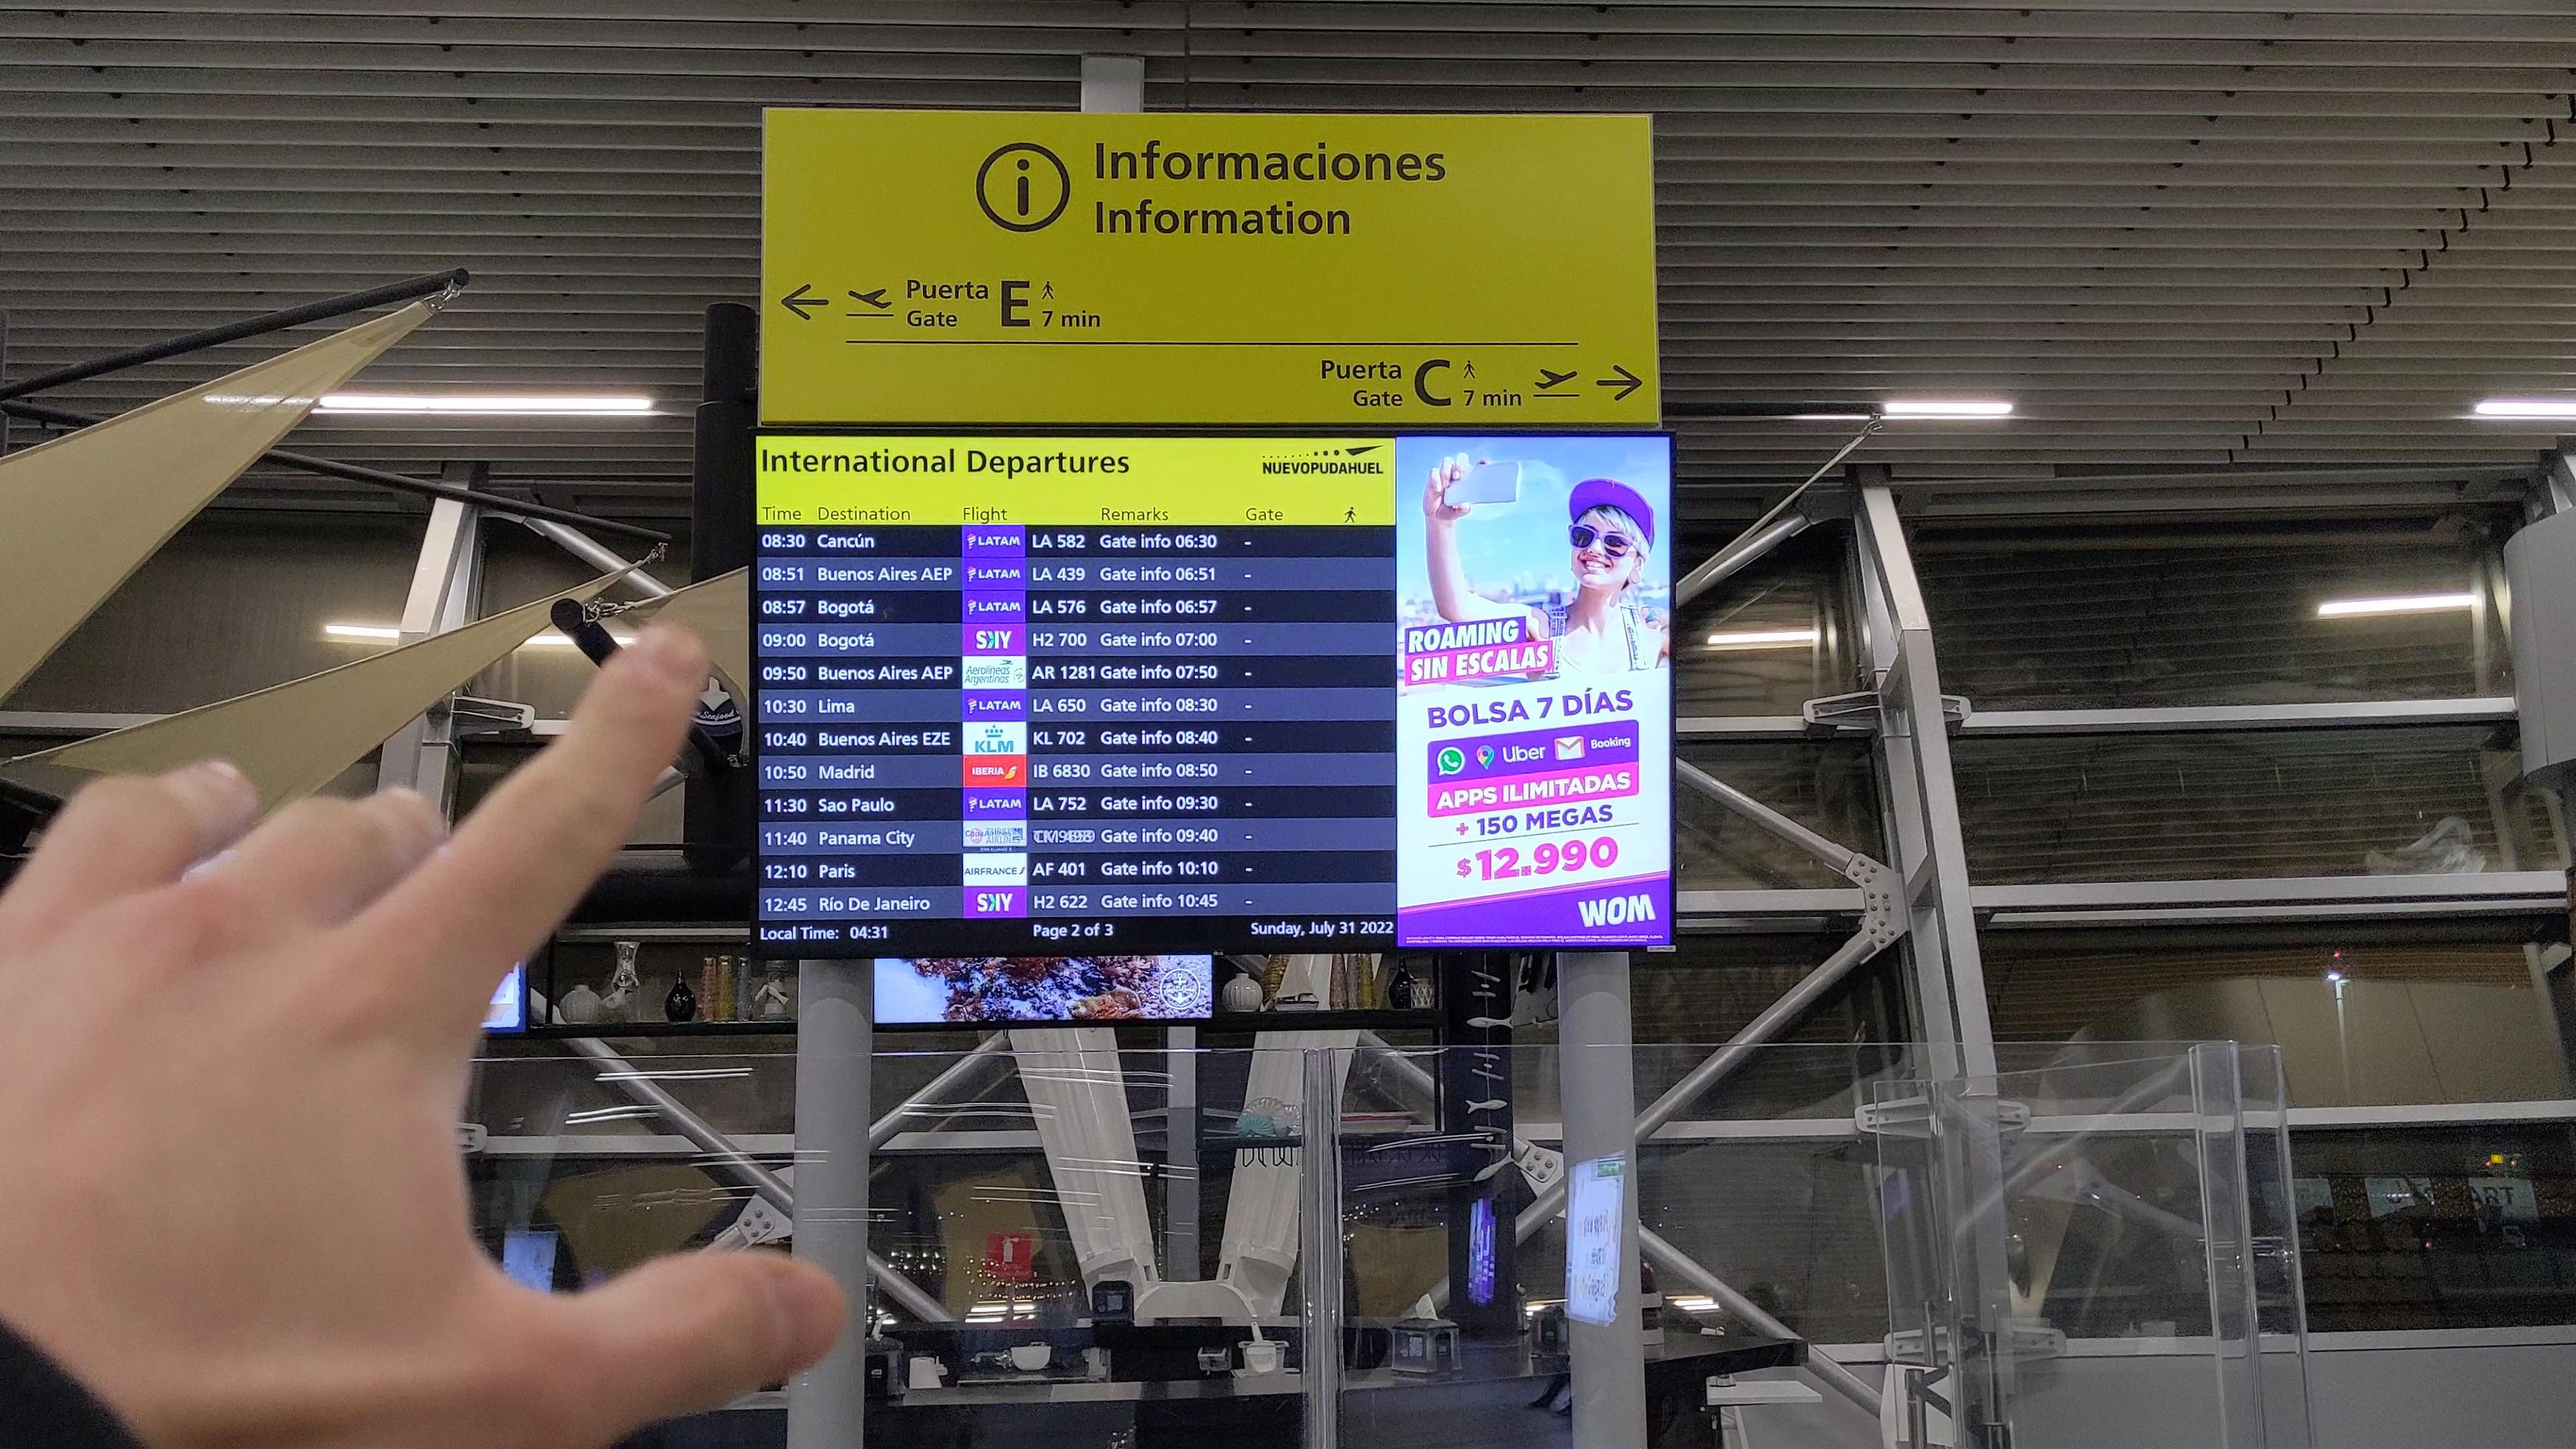airplane symbol: (846, 285, 893, 311), (1532, 366, 1580, 393)
thin left arrow: (777, 280, 833, 326)
thin right arrow: (1594, 361, 1645, 403)
